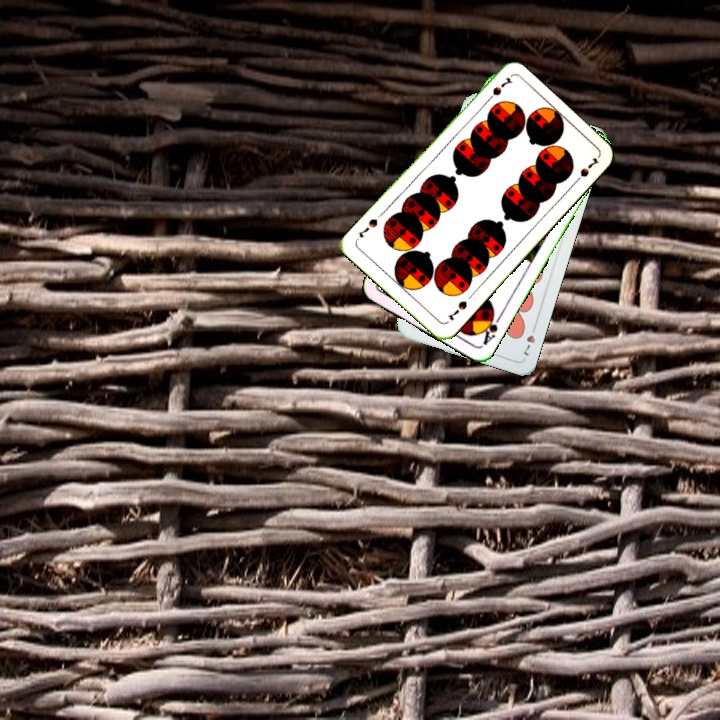H7: (518, 320, 539, 359)
S7: (481, 73, 515, 106), (444, 297, 470, 323)
SA: (477, 307, 504, 348)
